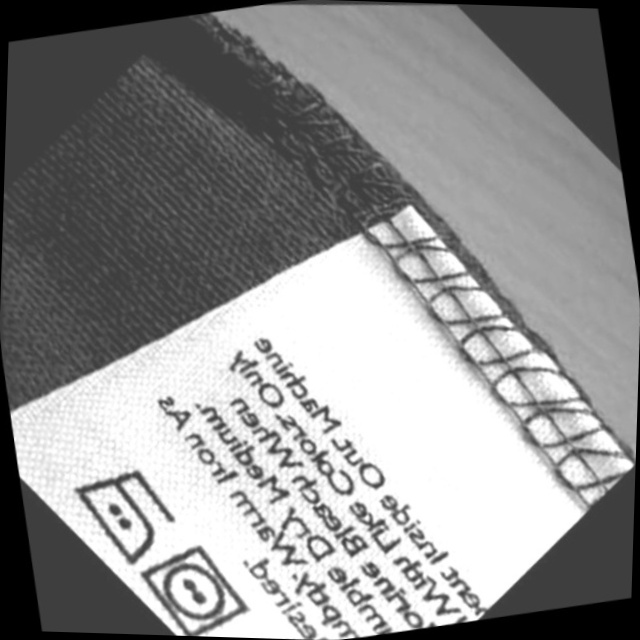iron_medium: (49, 448, 192, 582)
tumble_dry_medium: (120, 526, 265, 638)
